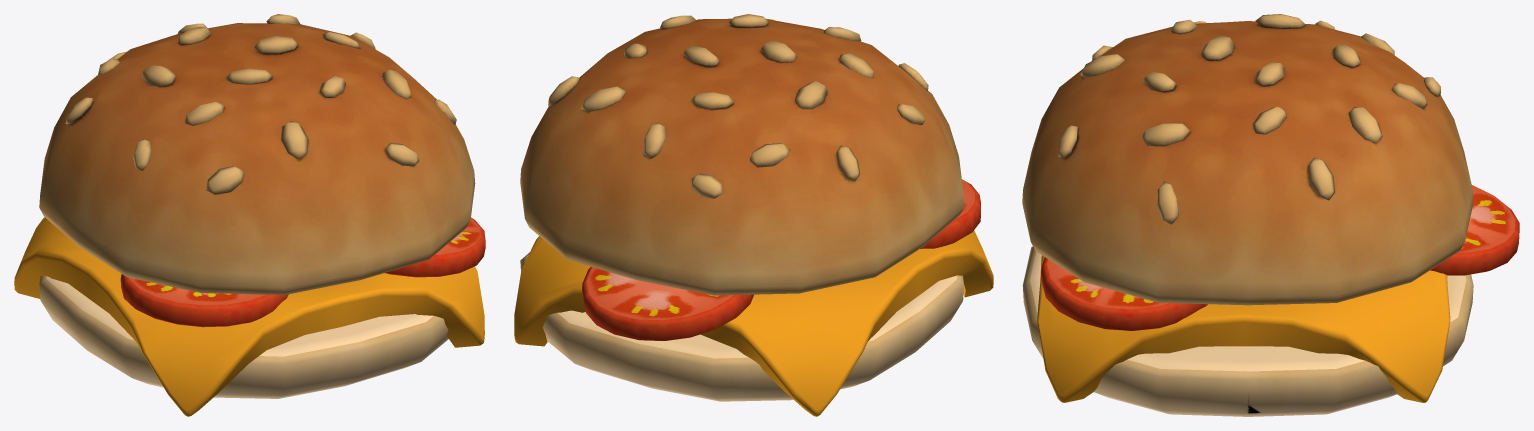
File: Tomato_cheese_burger.fbx
The picture shows the model from 3 angles, left to right: view 1: azimuth 30°, elevation 25°; view 2: azimuth 150°, elevation 25°; view 3: azimuth 270°, elevation 25°; orthographic projection. The views are drawn at different scales.
Visible parts, largest first — view 1: m_ingredients_bun_lid_01_0, m_recipe_cheese_lettuce_burger_01_2, m_ingredients_bun_base_01_0, m_recipe_lettuce_tomato_burger_01_0; view 2: m_ingredients_bun_lid_01_0, m_recipe_cheese_lettuce_burger_01_2, m_ingredients_bun_base_01_0, m_recipe_lettuce_tomato_burger_01_0; view 3: m_ingredients_bun_lid_01_0, m_recipe_cheese_lettuce_burger_01_2, m_ingredients_bun_base_01_0, m_recipe_lettuce_tomato_burger_01_0.
Boxes of the visible parts, x1=… form: m_ingredients_bun_lid_01_0: x1=39, y1=14, x2=475, y2=294; m_recipe_cheese_lettuce_burger_01_2: x1=14, y1=217, x2=484, y2=416; m_ingredients_bun_base_01_0: x1=39, y1=275, x2=448, y2=398; m_recipe_lettuce_tomato_burger_01_0: x1=120, y1=217, x2=485, y2=327; m_ingredients_bun_lid_01_0: x1=520, y1=14, x2=964, y2=295; m_recipe_cheese_lettuce_burger_01_2: x1=514, y1=230, x2=993, y2=416; m_ingredients_bun_base_01_0: x1=520, y1=252, x2=963, y2=401; m_recipe_lettuce_tomato_burger_01_0: x1=582, y1=179, x2=980, y2=340; m_ingredients_bun_lid_01_0: x1=1022, y1=14, x2=1473, y2=305; m_recipe_cheese_lettuce_burger_01_2: x1=1037, y1=255, x2=1450, y2=402; m_ingredients_bun_base_01_0: x1=1022, y1=246, x2=1473, y2=416; m_recipe_lettuce_tomato_burger_01_0: x1=1041, y1=185, x2=1519, y2=330.
Size of the model in its own units: 0.6178 by 0.4372 by 0.6882.
